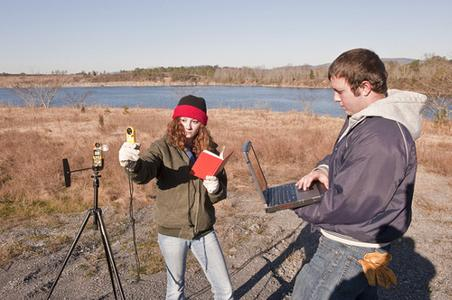person: (286, 48, 431, 300)
